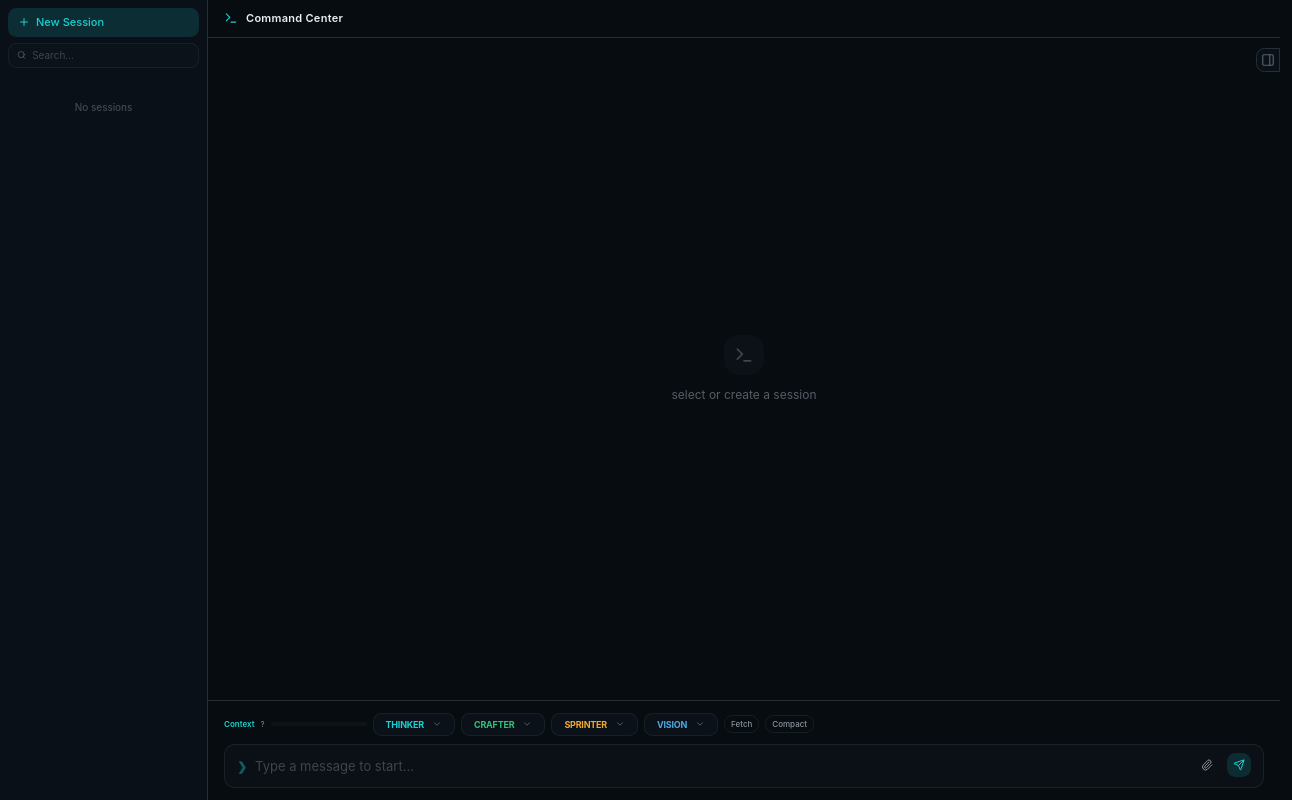
M1 — clarify releases the send lock › a late done after clarify is a no-op (message stays clarified, lock stays released)
In the text box with placeholder "Type a message to start…": (721, 766) [255,754,1187,779], type "build me a thing"
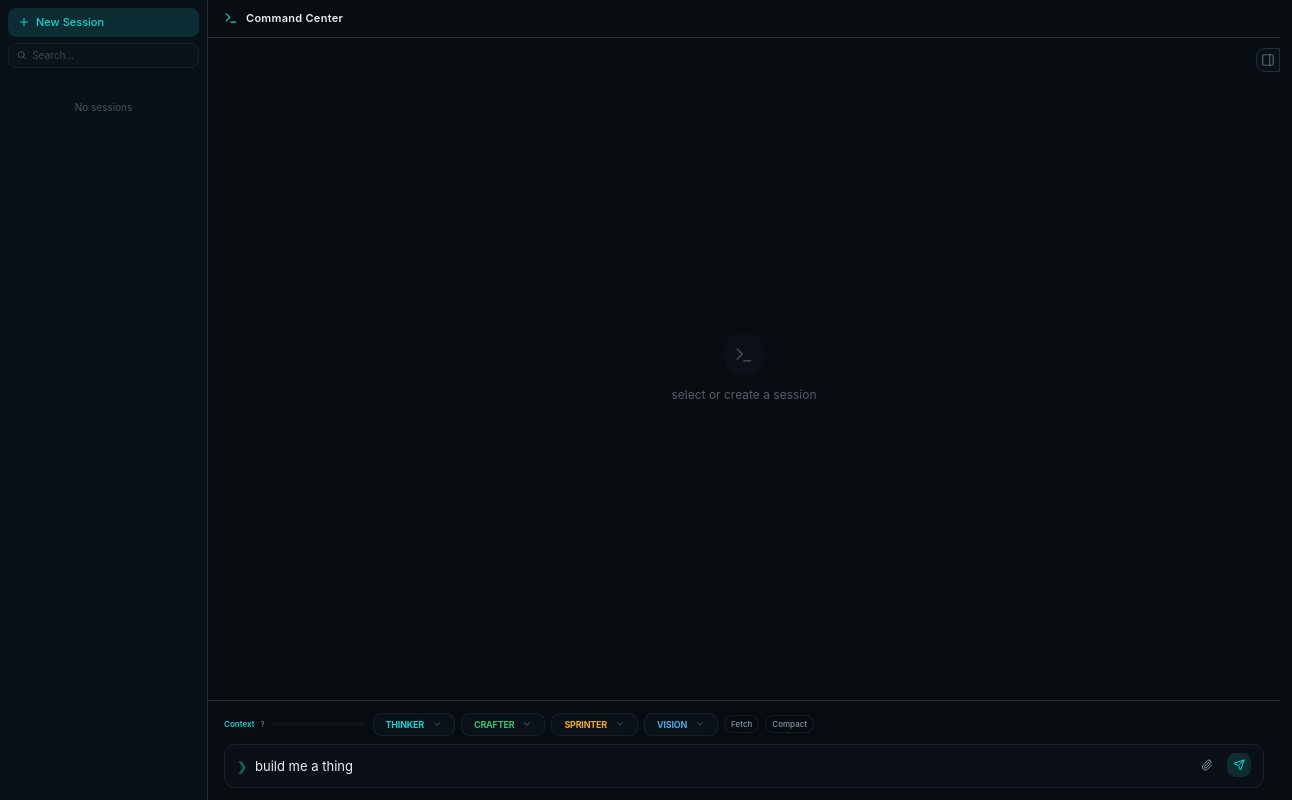
Click the button named "Send message": (1239, 765) [1227,753,1251,777]
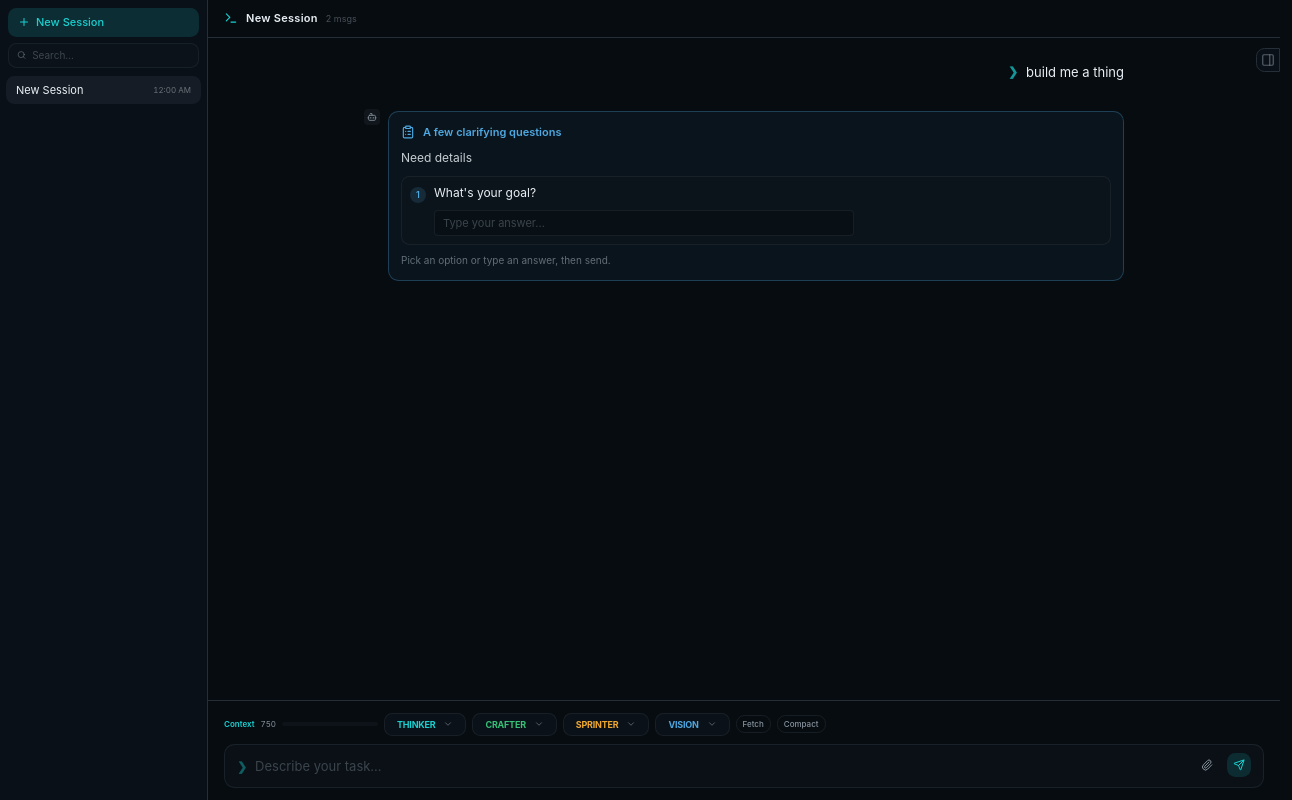
Expected: the text "What's your goal?" is shown, [434,185,536,201]
